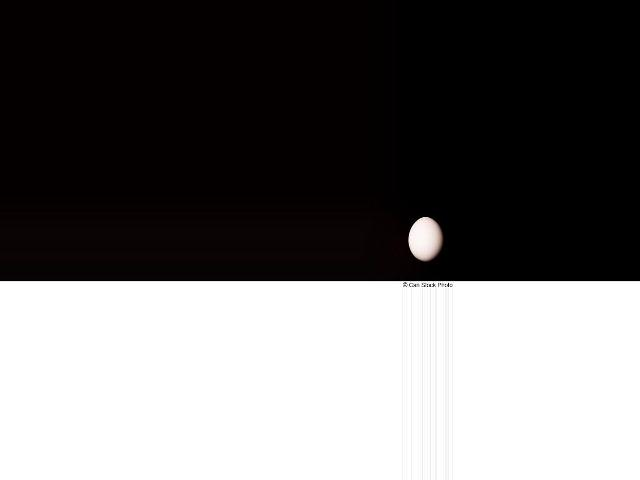egg: (409, 217, 443, 262)
